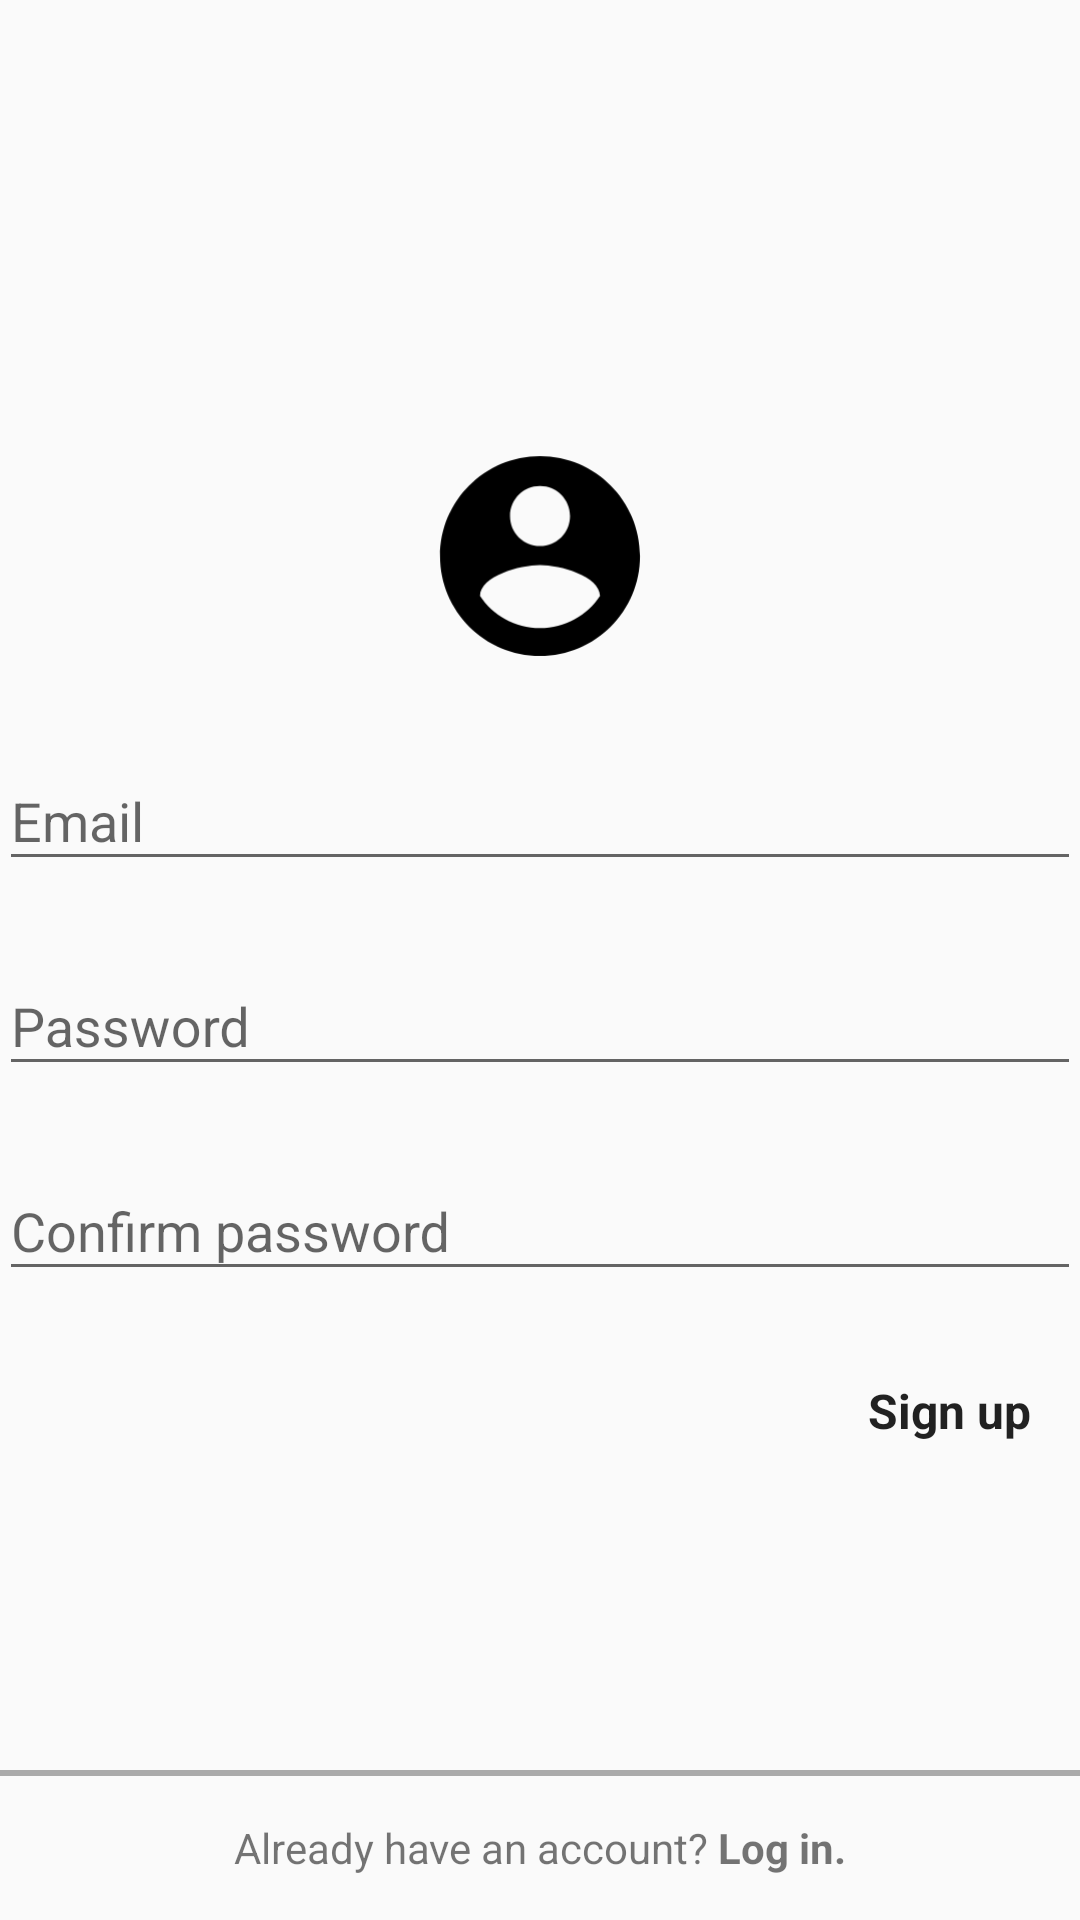

Where icons sit on this 1080 × 1920 app screen, as bbox=(x1, y1, x2, y2):
account circle: bbox=(439, 456, 640, 656)
